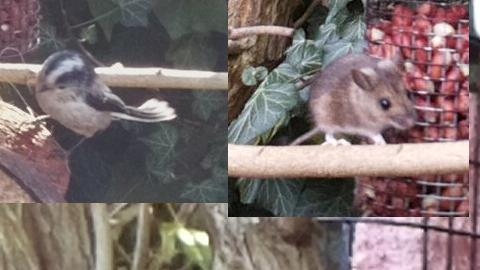long tailed tit: (22, 50, 178, 157)
mouse: (237, 50, 419, 185)
